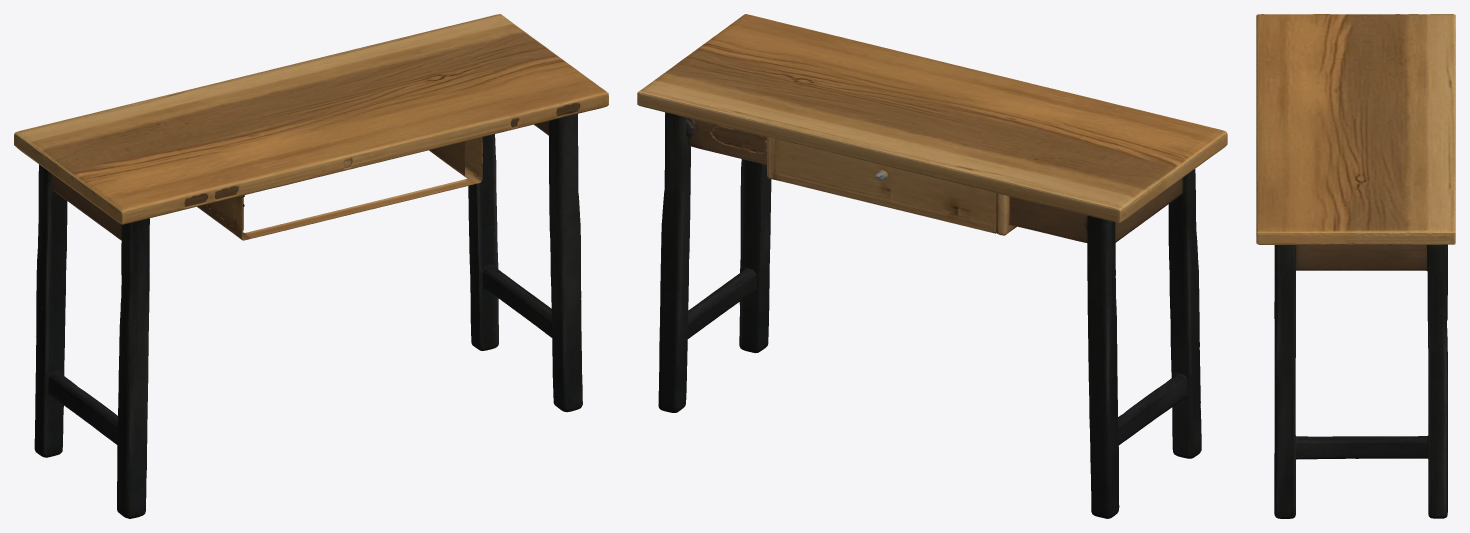
The model's file is body.glb.
3 views of the same model, side by side, from view 1: azimuth 30°, elevation 25°; view 2: azimuth 150°, elevation 25°; view 3: azimuth 270°, elevation 25° (orthographic). The views are drawn at different scales.
Visible parts, largest first — view 1: source_surface_0; view 2: source_surface_0; view 3: source_surface_0.
Boxes of the visible parts, bbox=[...] form: source_surface_0: bbox=[14, 14, 608, 518]; source_surface_0: bbox=[637, 14, 1227, 518]; source_surface_0: bbox=[1256, 14, 1455, 518].
Size of the model in its own units: 1.4 by 0.885 by 0.5398.
Materials: 1 (1 with a texture image).
